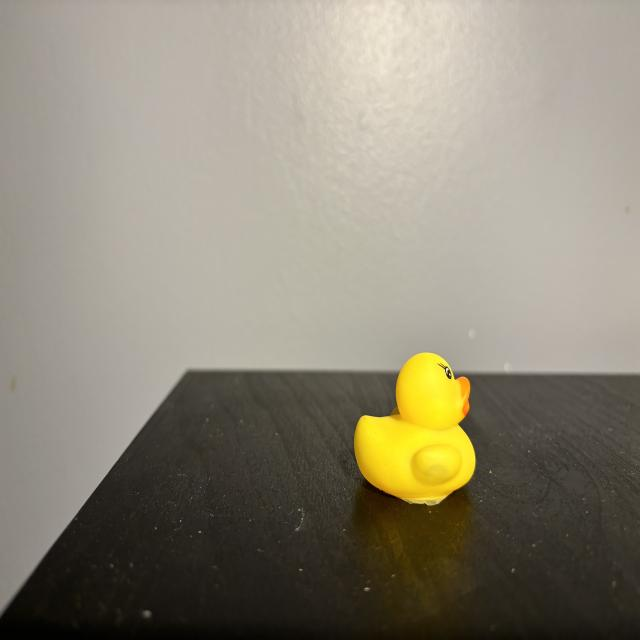duck_regular: (355, 354, 477, 506)
